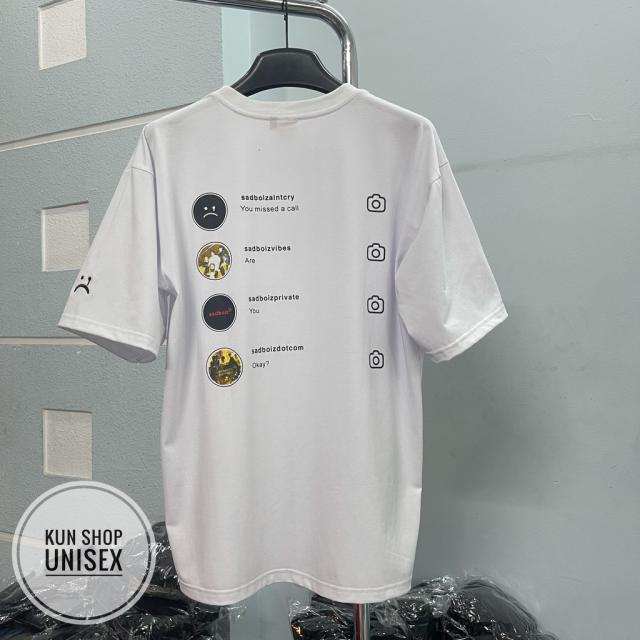Shirt: (58, 77, 518, 608)
